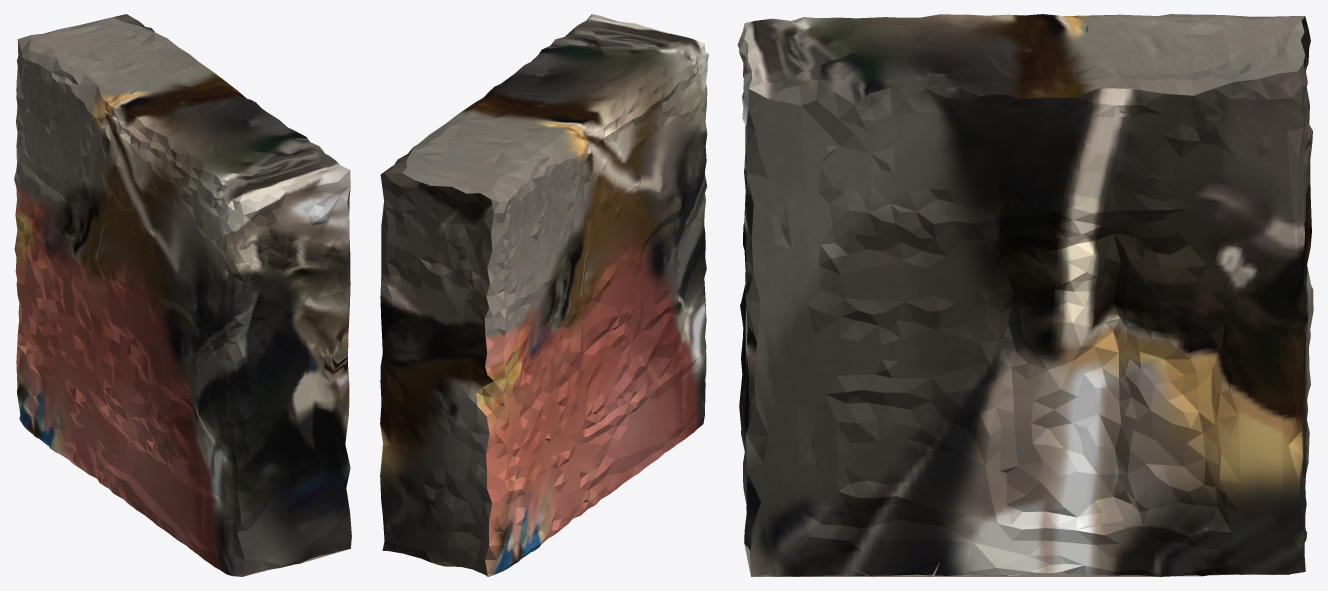
File: Burrito.fbx
3 views of the same model, side by side, from view 1: azimuth 30°, elevation 25°; view 2: azimuth 150°, elevation 25°; view 3: azimuth 270°, elevation 25° (orthographic). The views are drawn at different scales.
Visible parts, largest first — view 1: textured_output; view 2: textured_output; view 3: textured_output.
Part boxes in pixels (x1,y1,x2,y2): textured_output: (14,14,351,576); textured_output: (380,14,708,576); textured_output: (737,14,1313,576).
Size of the model in its own units: 10.18 by 28.61 by 30.22.
